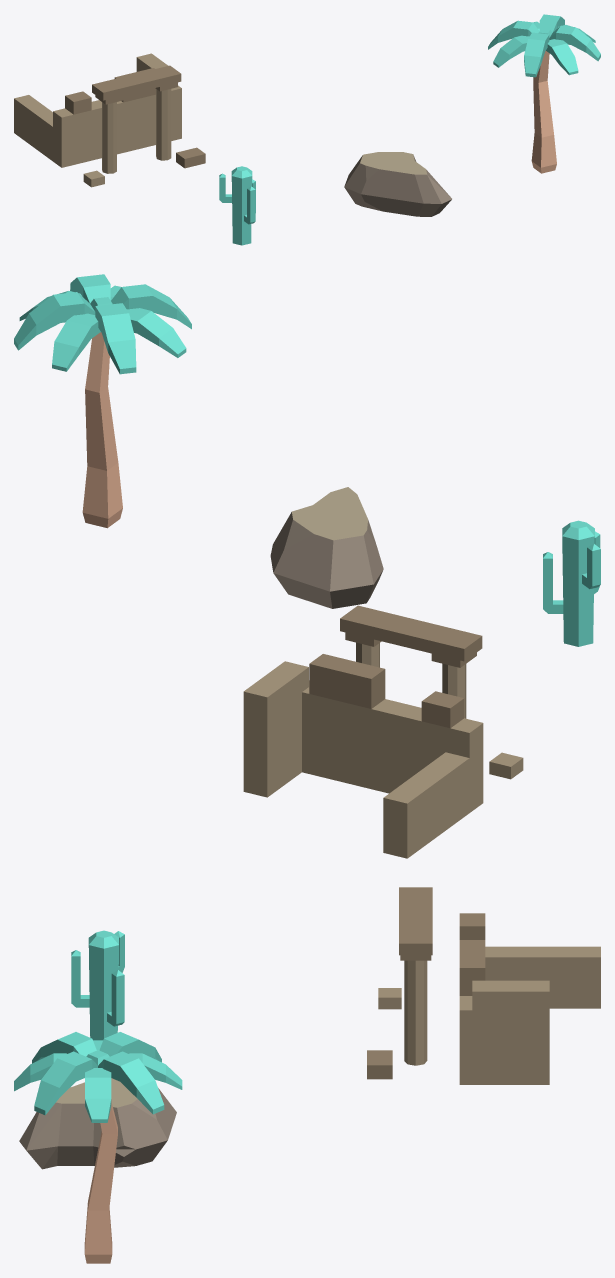
File: decor_desert.glb
3 renders of one model, top to bottom at view 1: azimuth 30°, elevation 25°; view 2: azimuth 150°, elevation 25°; view 3: azimuth 270°, elevation 25°, orthographic. The views are drawn at different scales.
Parts seen in each view (by area): view 1: Harabe, Palmiye, Kaya, Kaktus; view 2: Harabe, Palmiye, Kaya, Kaktus; view 3: Harabe, Palmiye, Kaya, Kaktus.
Boxes of the visible parts, left/top/right/bottom form: Harabe: left=14, top=53, right=205, bottom=187; Palmiye: left=488, top=14, right=600, bottom=173; Kaya: left=344, top=152, right=451, bottom=216; Kaktus: left=219, top=166, right=255, bottom=245; Harabe: left=243, top=605, right=523, bottom=858; Palmiye: left=14, top=274, right=191, bottom=528; Kaya: left=270, top=487, right=383, bottom=608; Kaktus: left=543, top=520, right=600, bottom=646; Harabe: left=367, top=887, right=600, bottom=1084; Palmiye: left=14, top=1032, right=182, bottom=1263; Kaya: left=19, top=1078, right=176, bottom=1169; Kaktus: left=71, top=930, right=124, bottom=1040.
Size of the model in its own units: 27.27 by 9 by 22.82.
